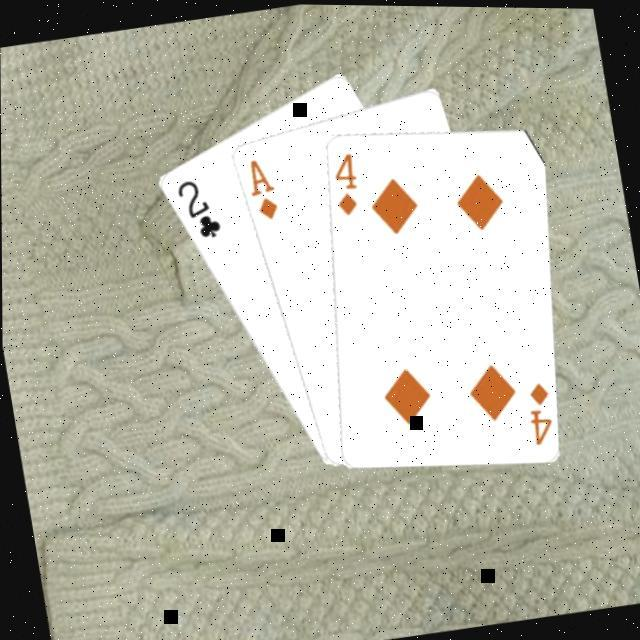2C: (172, 169, 226, 242)
4D: (326, 144, 366, 216), (521, 373, 560, 445)
AD: (243, 150, 283, 222)
